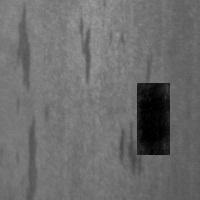inclusion: (8, 2, 38, 93), (69, 9, 99, 88), (18, 110, 43, 198), (115, 119, 146, 184), (136, 43, 159, 101), (105, 30, 128, 55)
patches: (137, 83, 170, 155)
